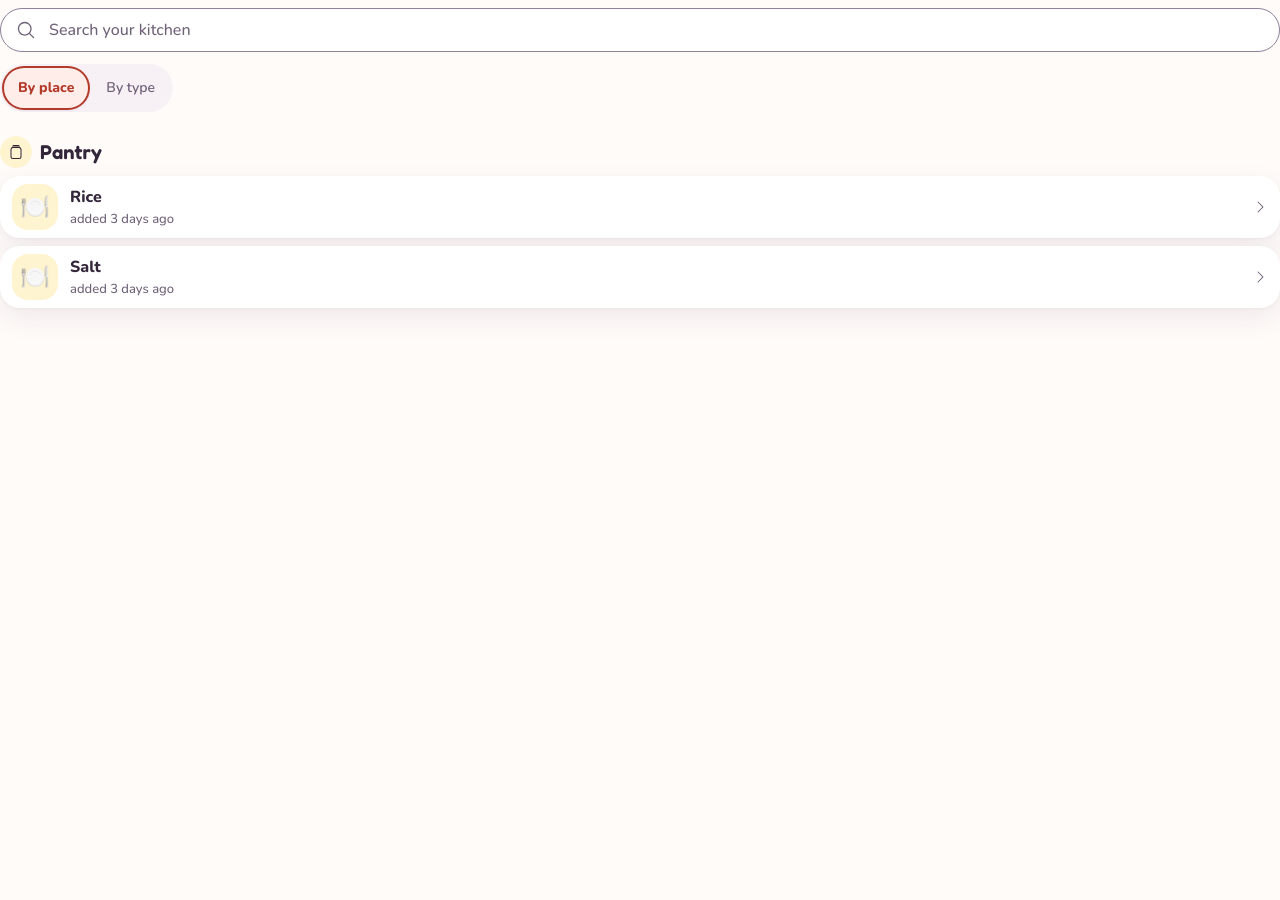
Test: Setting a level in the edit sheet › Out closes the sheet and keeps the row in place as Out (no edit button) with the receipt, focus on Undo; Undo brings it back
Click the button with aria-label "Edit rice" at (86, 197), box [70,186,102,208]
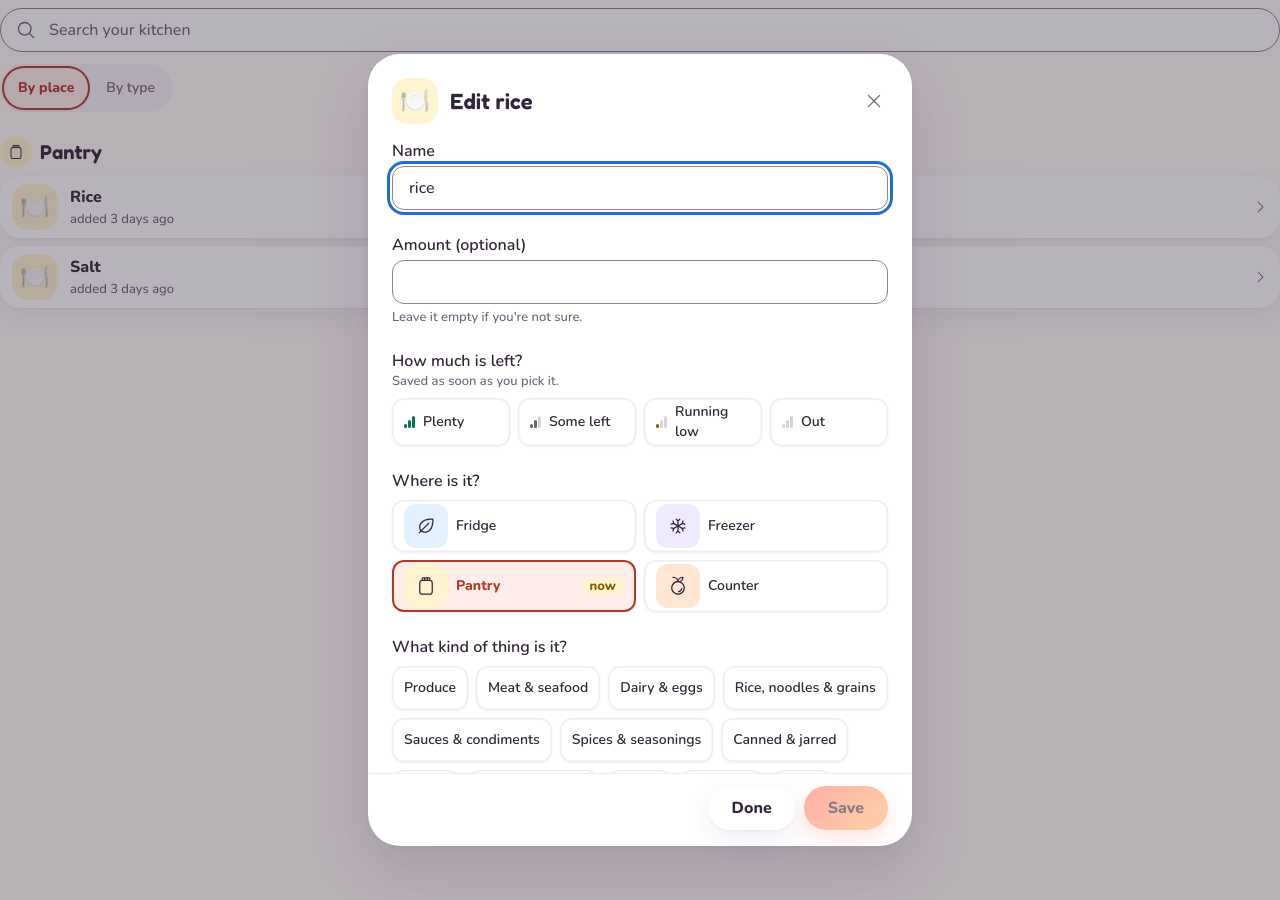
Click the button "Out" at (829, 422), box [770,398,888,446]
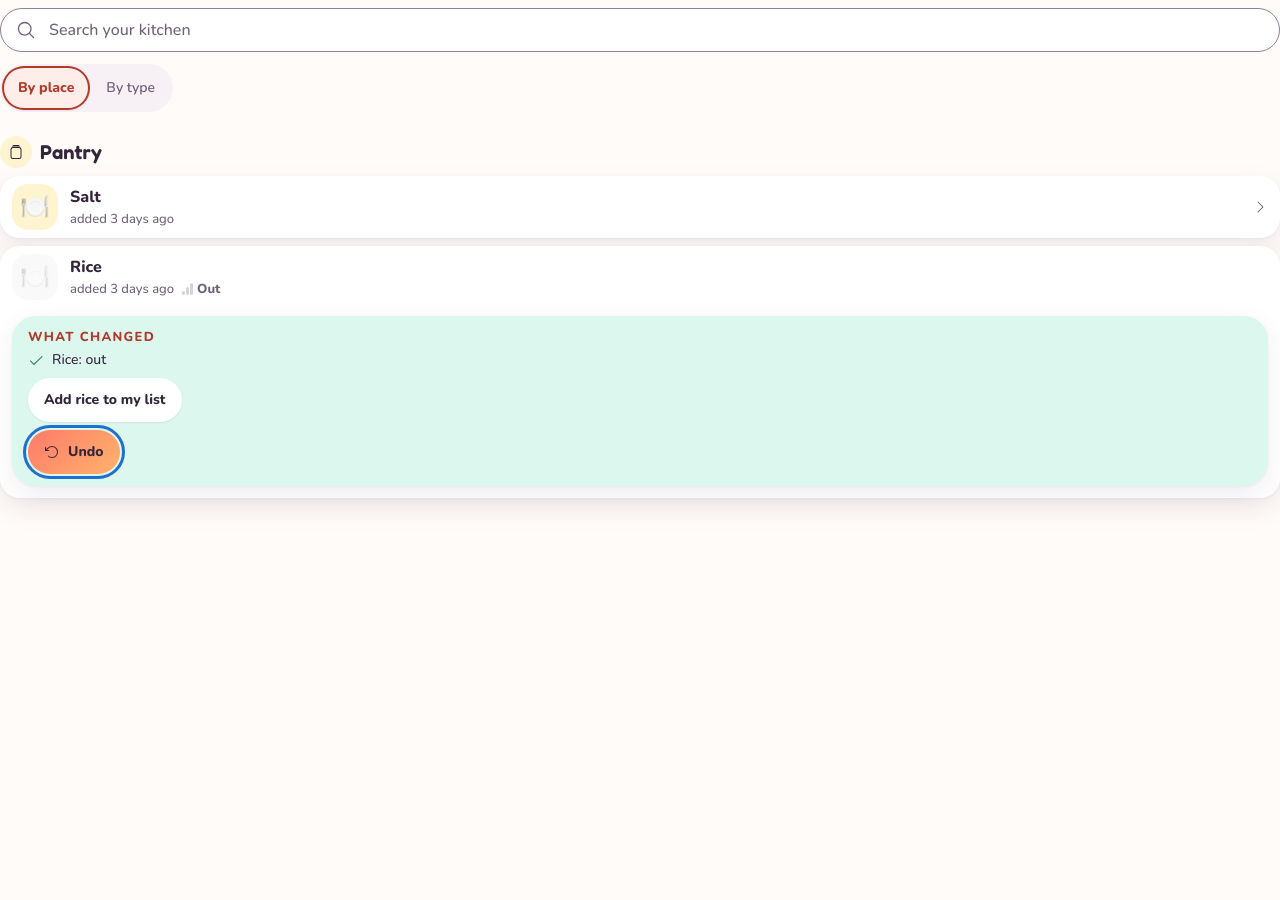
Check: the text "Out" is shown, box [182,280,220,298]
Check: the heading "Edit rice" is gone
Check: the dialog is gone
Click the button with aria-label "Undo: Rice: out" at (74, 452), box [28,430,120,474]
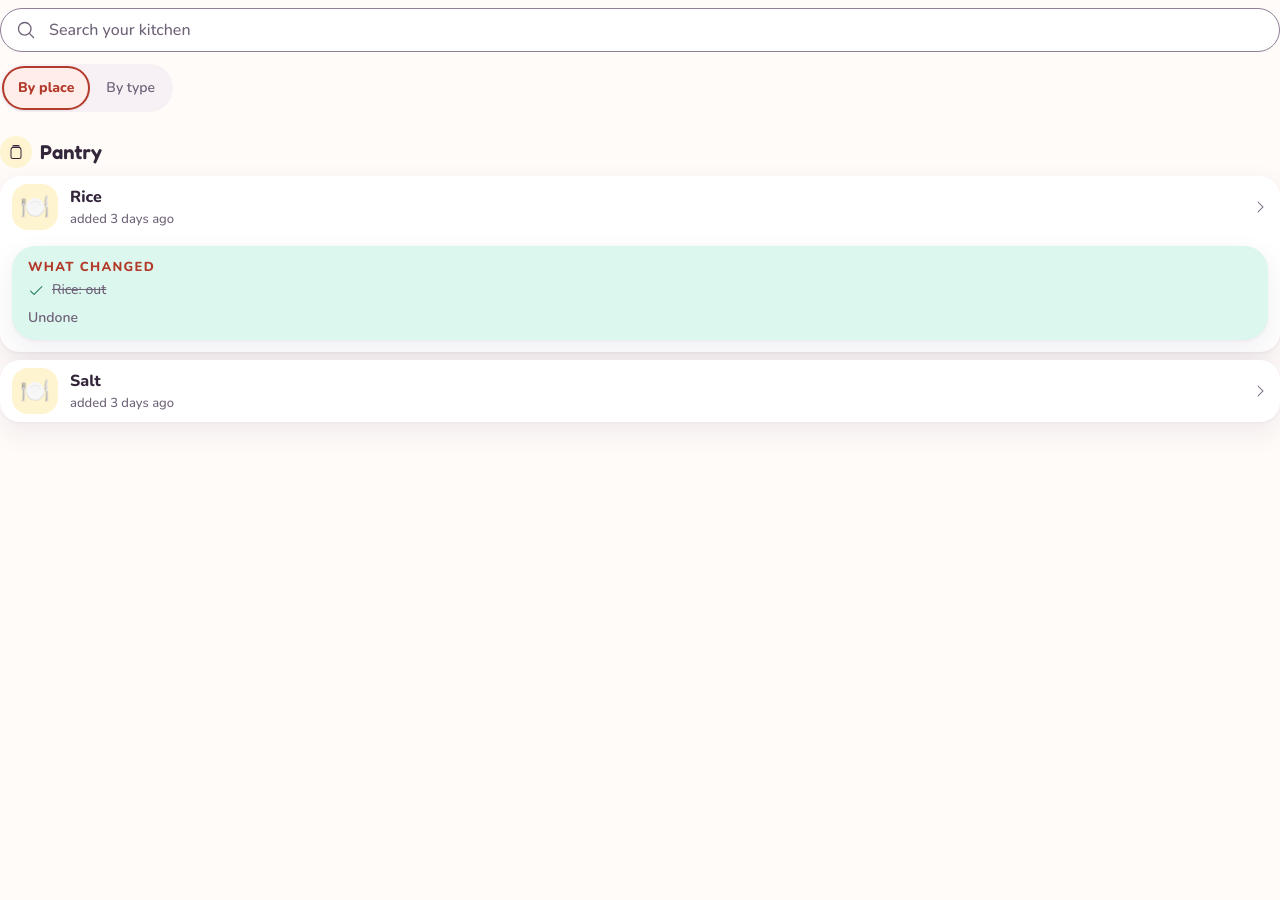
Check: the button with aria-label "Edit rice" is shown, box [70,186,102,208]
Check: the text "Undone" is shown, box [28,308,78,328]
Check: the button "Add rice to my list" is gone
